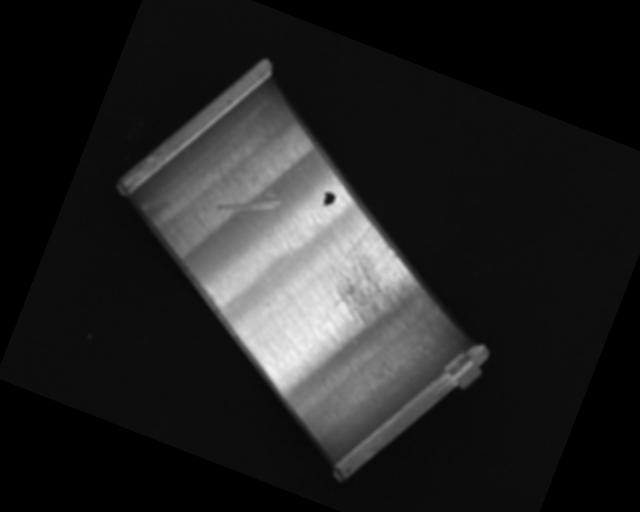blot: (320, 189, 337, 210)
nick: (216, 172, 285, 230), (266, 154, 313, 229)
scratch: (312, 213, 452, 347)
